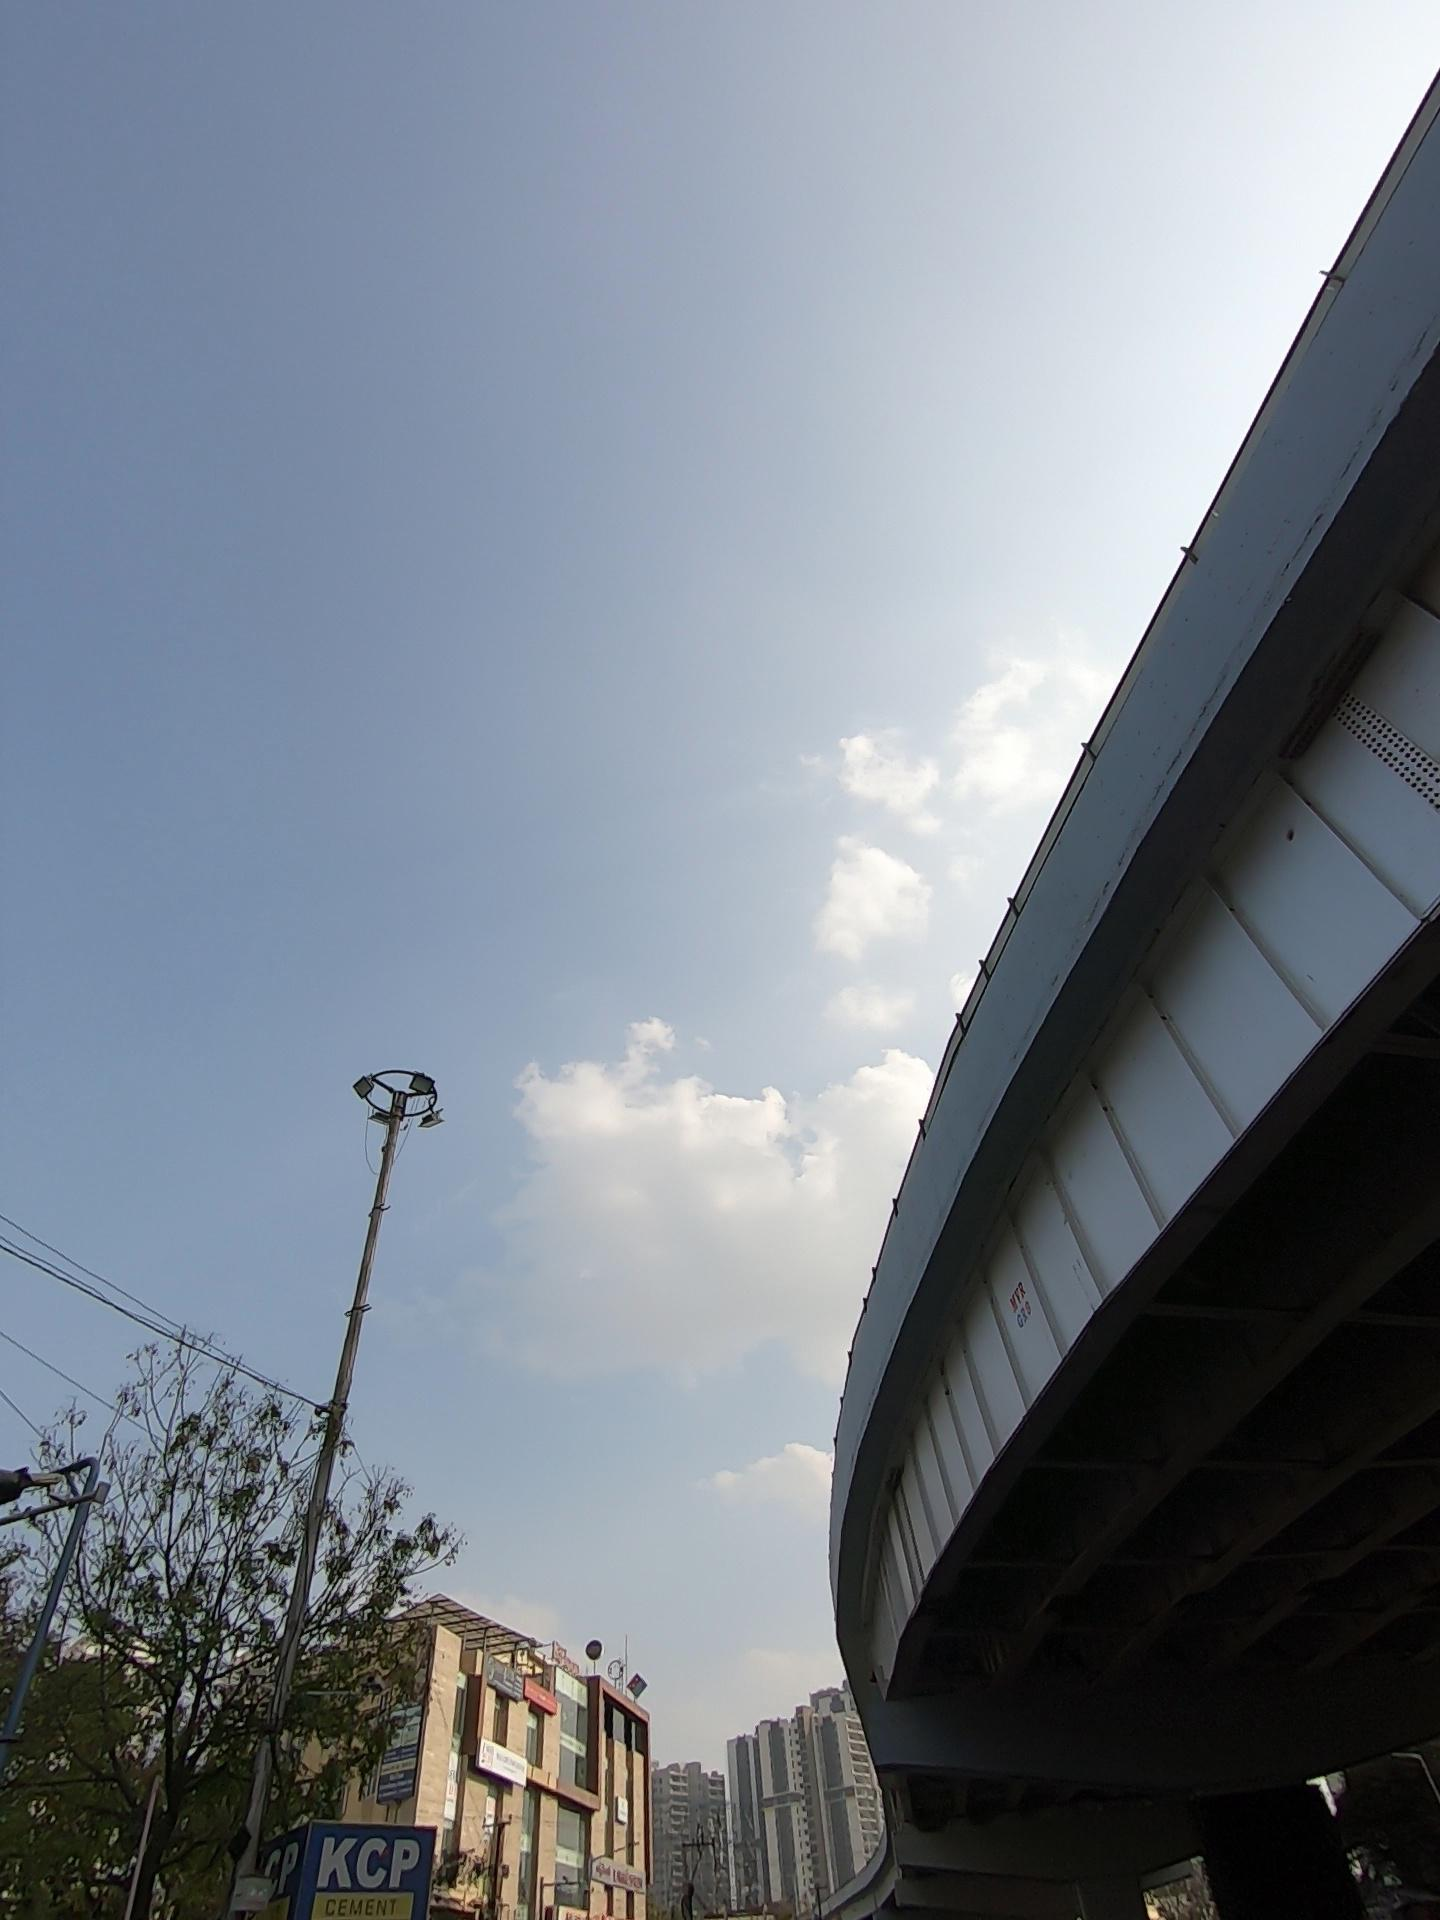off: (295, 1005, 508, 1300)
